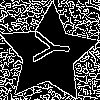Y: (24, 29, 70, 65)
